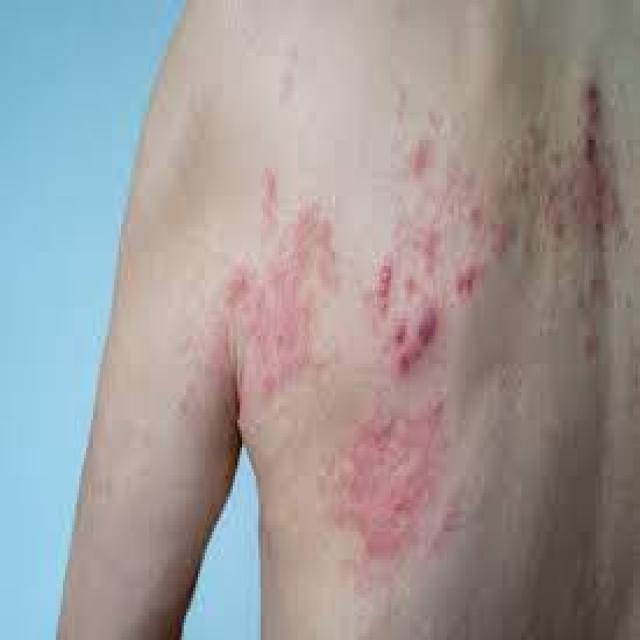Shingles: (364, 95, 612, 371), (228, 171, 341, 388), (326, 396, 454, 572)
